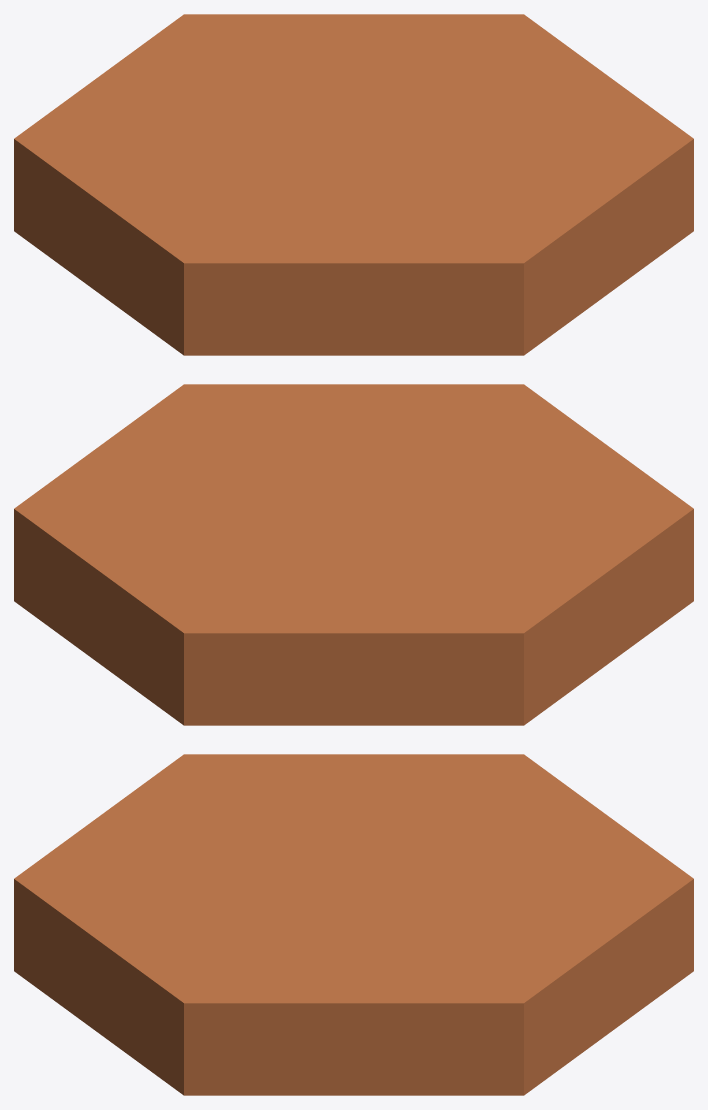
The model's file is 1wall2.glb.
3 renders of one model, top to bottom at view 1: azimuth 30°, elevation 25°; view 2: azimuth 150°, elevation 25°; view 3: azimuth 270°, elevation 25°, orthographic.
Parts seen in each view (by area): view 1: Cliff1-col; view 2: Cliff1-col; view 3: Cliff1-col.
Boxes of the visible parts, box(x1,y1,x2,y2) form: Cliff1-col: box(14, 14, 693, 355); Cliff1-col: box(14, 384, 693, 725); Cliff1-col: box(14, 754, 693, 1095).
Bounding box in the file's own units: 1.73 × 0.3 × 2.
1 material, 1 textured.
